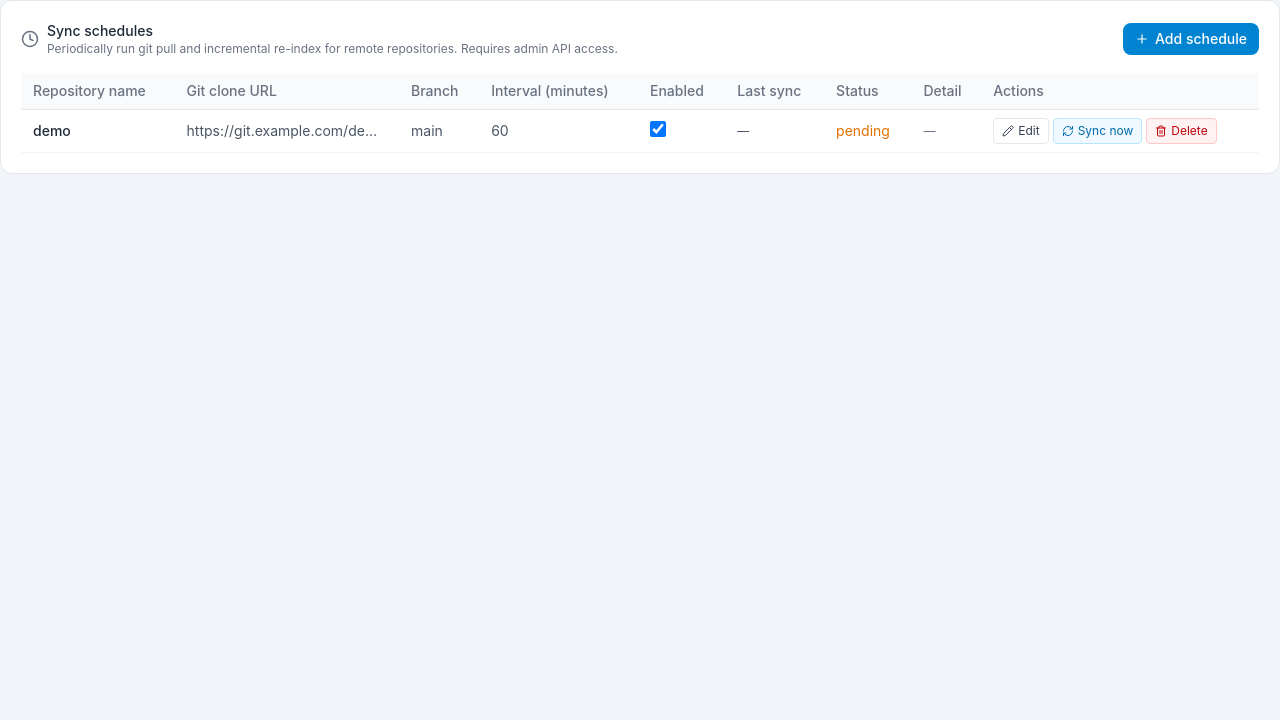
Test: SyncSettingsPanel › edits existing schedule from table
This screenshot has width=1280, height=720.
Expected: the text "demo" is shown, 21,110 -> 175,152
Click the button "Edit" at (1021, 131), box 993,118 -> 1049,144
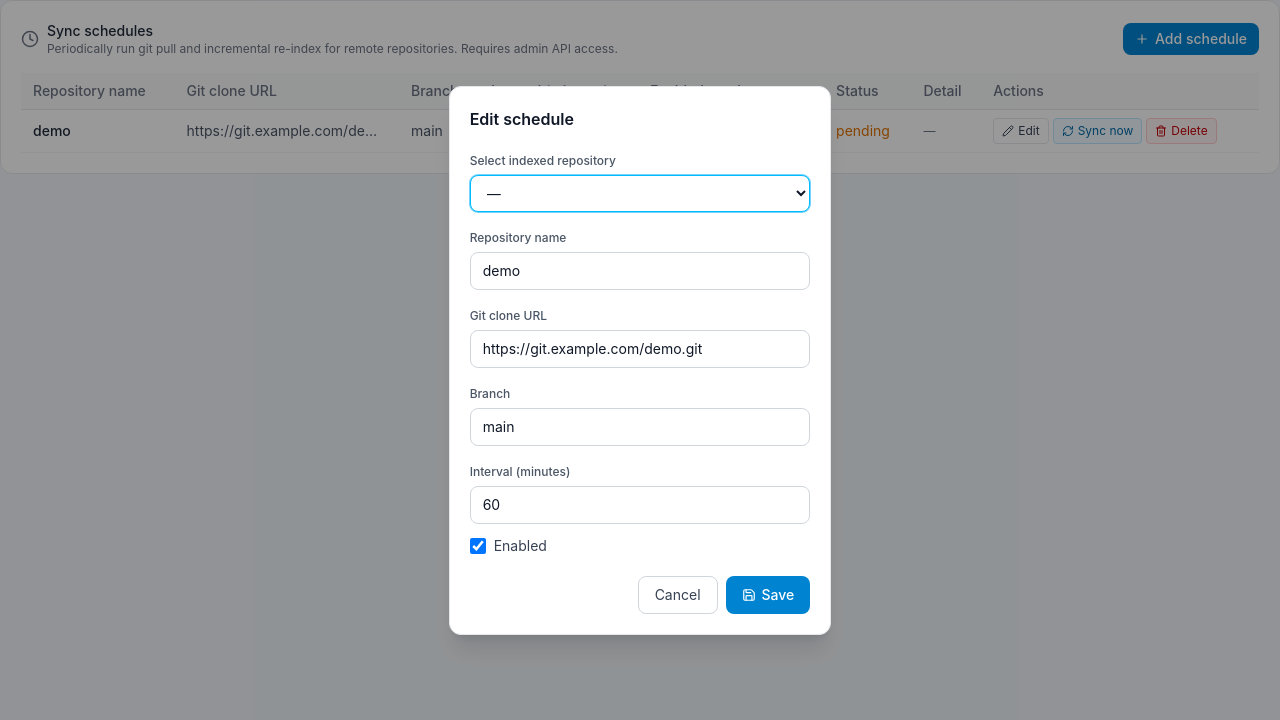
Result: the 1st field showing "demo" is shown at 470,252 -> 810,290
